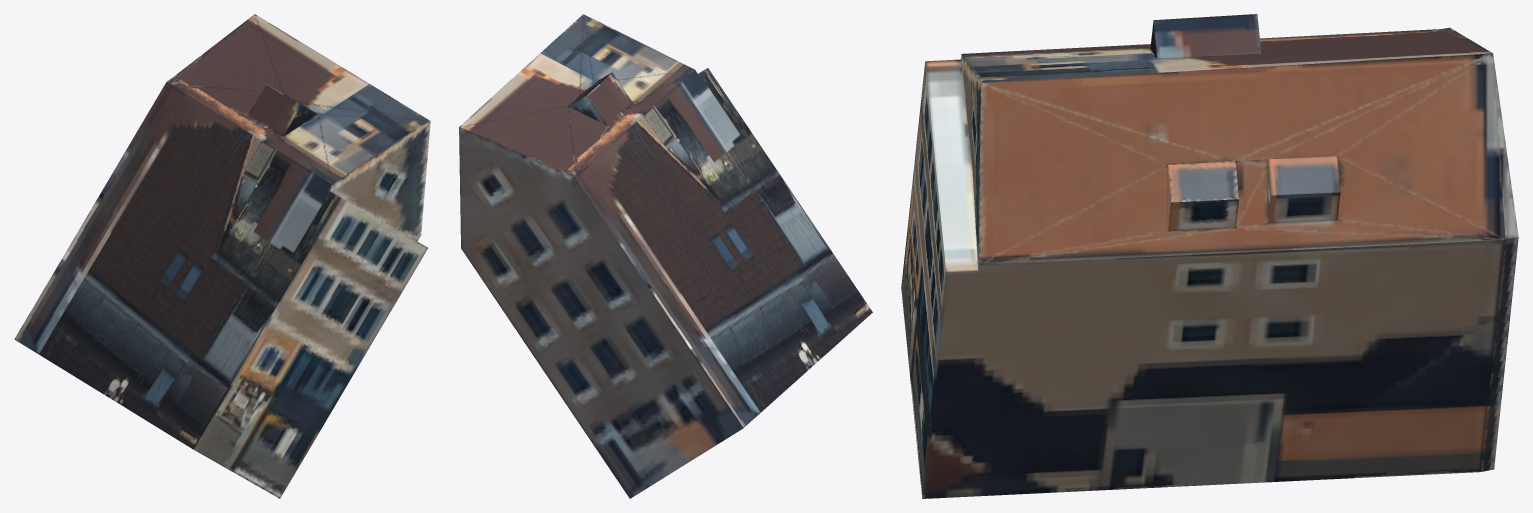
3 views of the same model, side by side, from view 1: azimuth 30°, elevation 25°; view 2: azimuth 150°, elevation 25°; view 3: azimuth 270°, elevation 25° (orthographic). The views are drawn at different scales.
Parts seen in each view (by area): view 1: BAG_0599100000603392 (×5); view 2: BAG_0599100000603392 (×4); view 3: BAG_0599100000603392 (×5).
Part boxes in pixels (<box>): BAG_0599100000603392 (×5): <box>14,14,430,498</box>; BAG_0599100000603392 (×4): <box>459,14,872,498</box>; BAG_0599100000603392 (×5): <box>901,14,1518,498</box>.
Size of the model in its own units: 14.93 by 16.25 by 16.12.
1 material, 1 textured.
